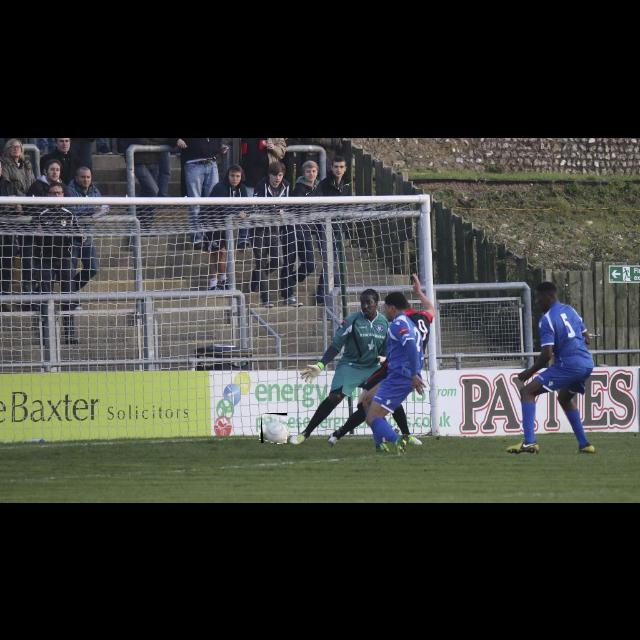Football: (261, 413, 287, 443)
